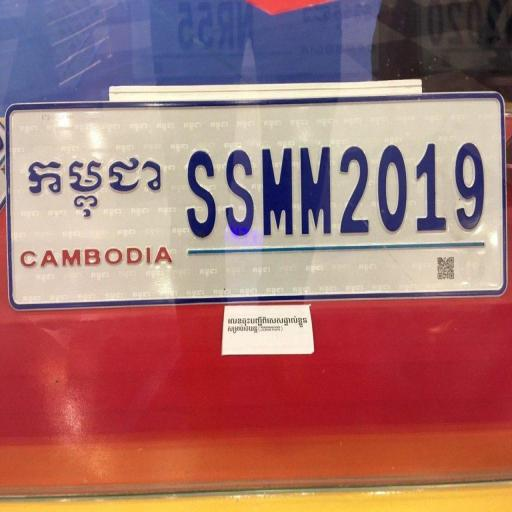Plate Number: (3, 98, 503, 309)
